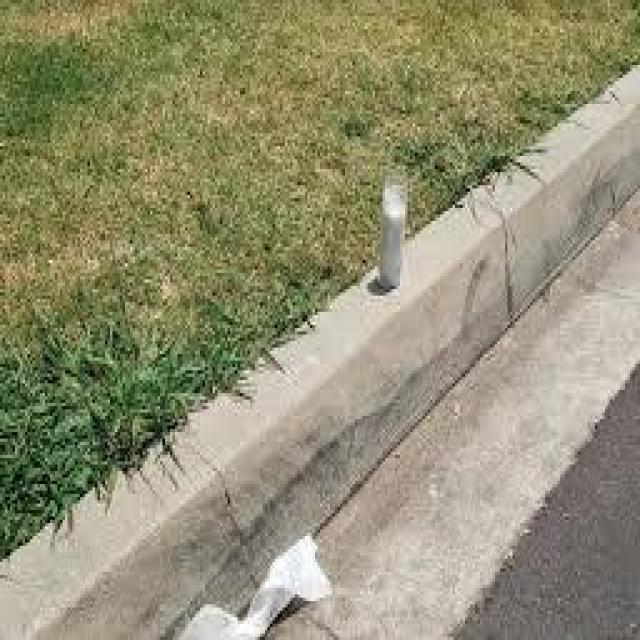bump: (73, 195, 493, 640)
